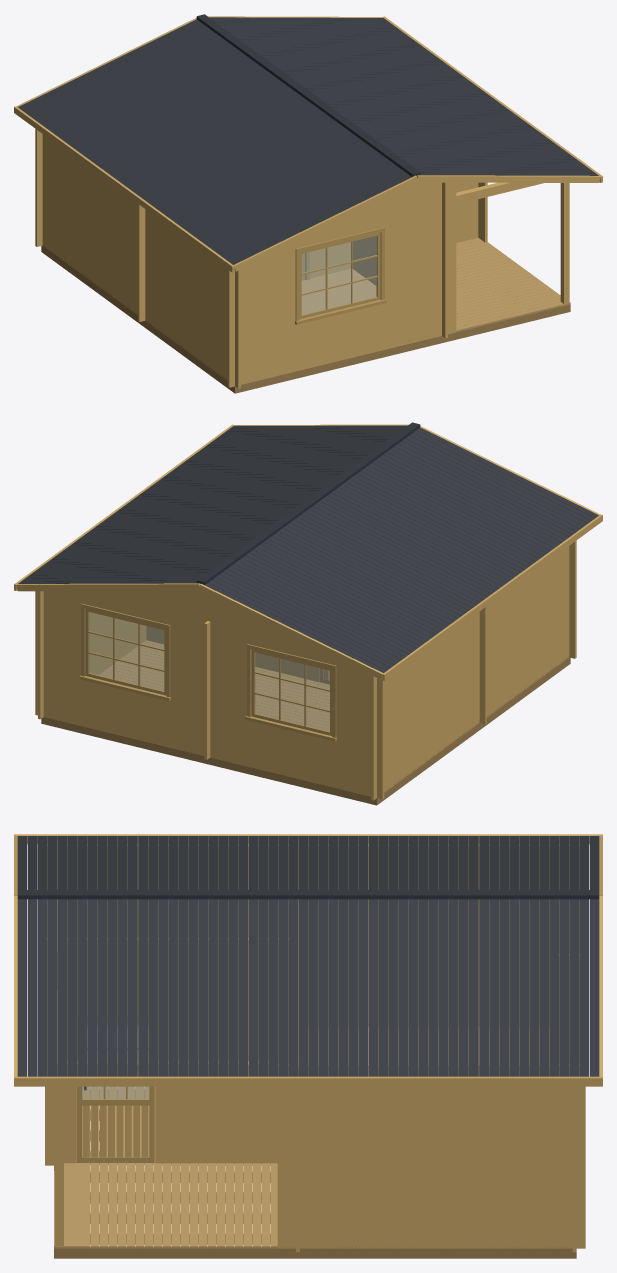
File: алекс_6_6_44_мм_встроенная_терраса.glb
3 views of the same model, one above another, from view 1: azimuth 30°, elevation 25°; view 2: azimuth 150°, elevation 25°; view 3: azimuth 270°, elevation 25° (orthographic). The views are drawn at different scales.
Visible parts, largest first — view 1: roof, walls, floor, object 50, house; view 2: roof, walls, floor, object 63, object 76, house; view 3: roof, walls, floor, house, object 37, object 25.
Part boxes in pixels (box(x1,y1,x2,y2)): roof: box(14, 14, 602, 272); walls: box(35, 129, 569, 388); floor: box(48, 237, 570, 380); object 50: box(302, 236, 376, 314); house: box(41, 245, 570, 393); roof: box(14, 422, 602, 680); walls: box(35, 540, 576, 800); floor: box(99, 640, 569, 792); object 63: box(89, 612, 163, 691); object 76: box(255, 652, 329, 731); house: box(41, 657, 570, 805); roof: box(14, 834, 602, 1086); walls: box(45, 840, 585, 1252); floor: box(54, 1027, 571, 1248); house: box(54, 1089, 576, 1258); object 37: box(82, 1087, 148, 1098); object 25: box(76, 1017, 82, 1162).
Size of the model in its own units: 6.35 by 3.1 by 6.48.
